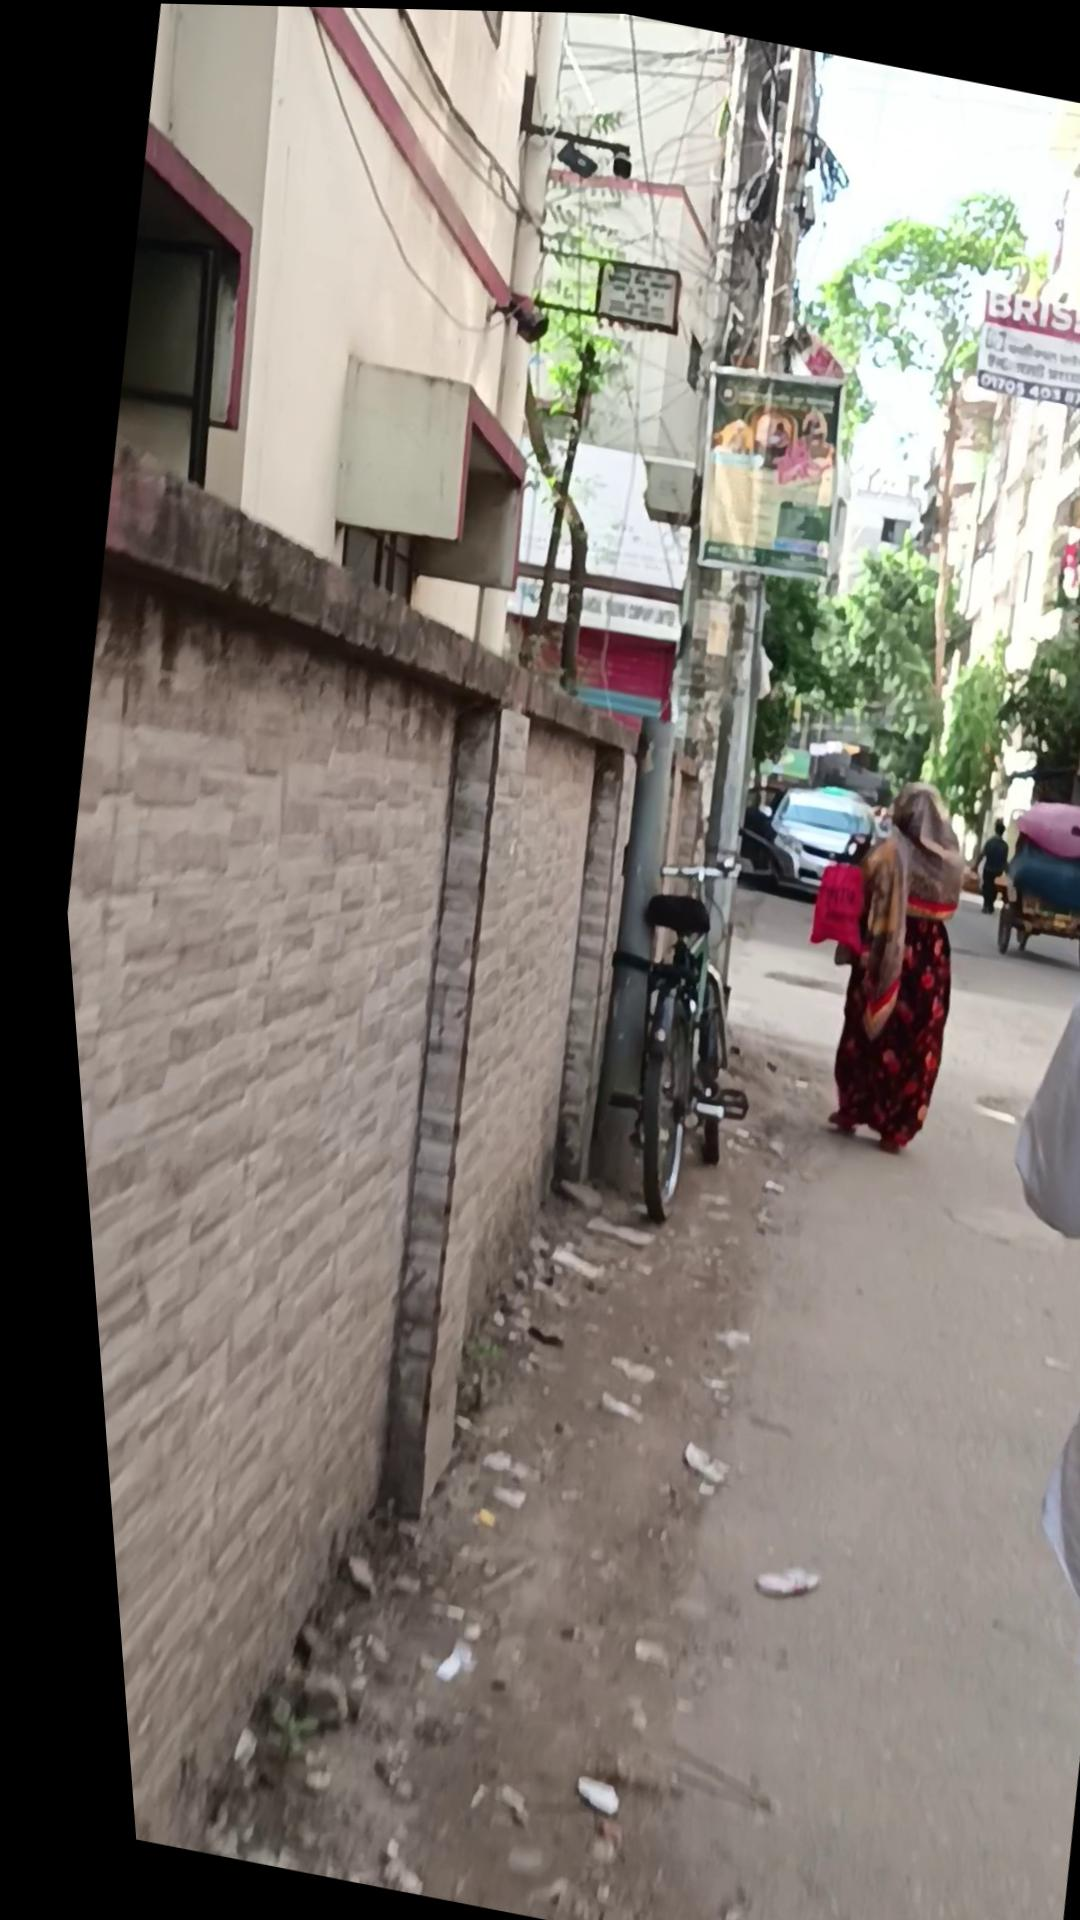Car: (712, 764, 881, 909)
Muddy road: (886, 861, 1080, 1689), (774, 762, 982, 1159), (948, 810, 1006, 913)
Potted-plant: (109, 752, 1080, 1920)
